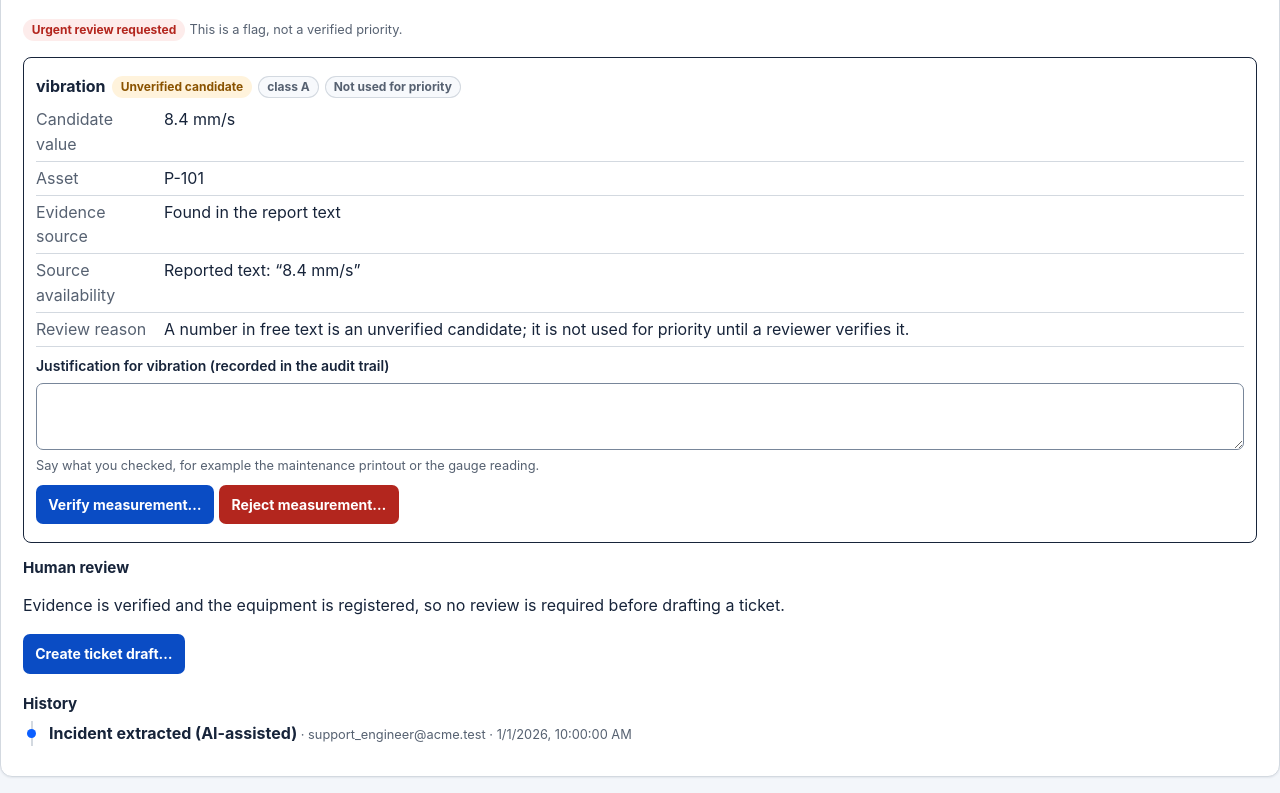
Test: measurement review panel › verifies with the guard of the displayed state, then shows the server's status, priority, decision and refreshed audit history
This screenshot has width=1280, height=793.
(page scrolled)
Type "Checked the maintenance printout." into the text box labelled "Justification for vibration (recorded in the audit trail)".
click(640, 416); type("Checked the maintenance printout.")  # box [36,383,1244,450]
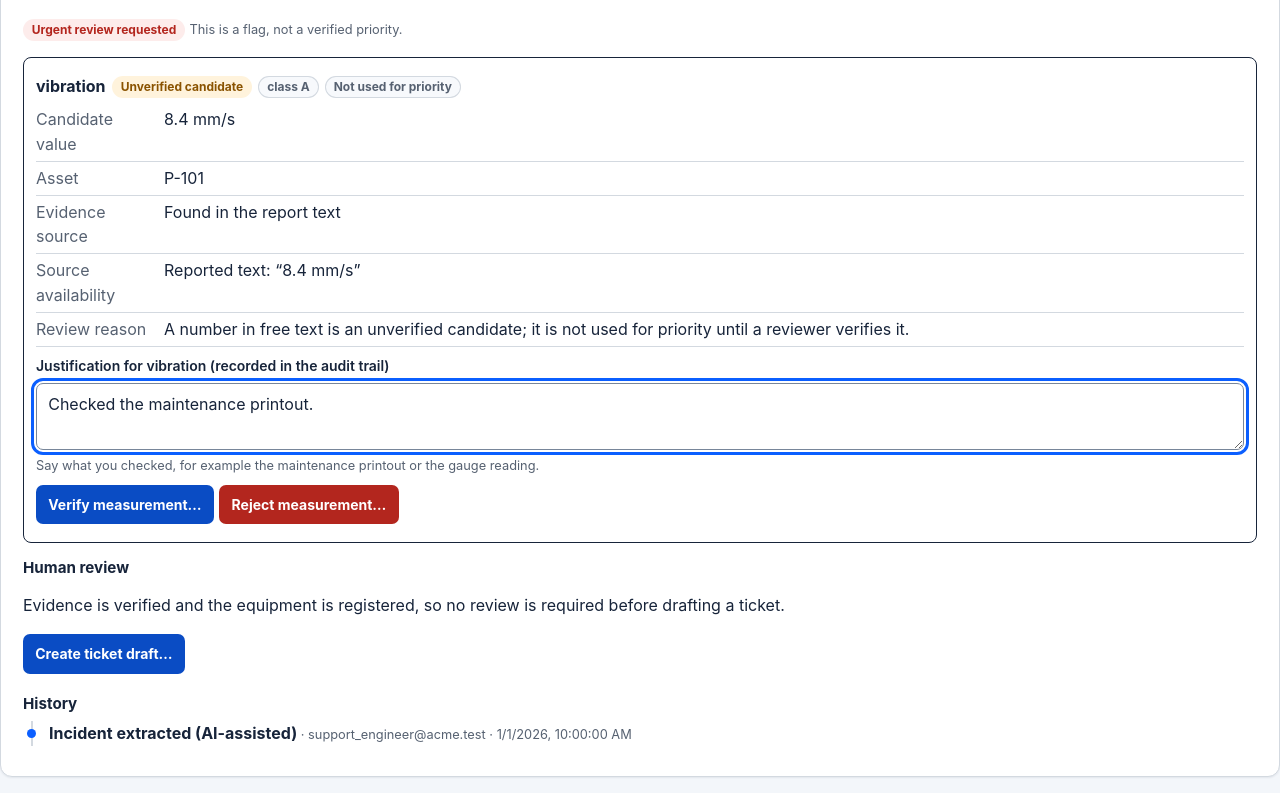
Click the button "Verify measurement…".
click(125, 504)  # box [36,484,214,524]
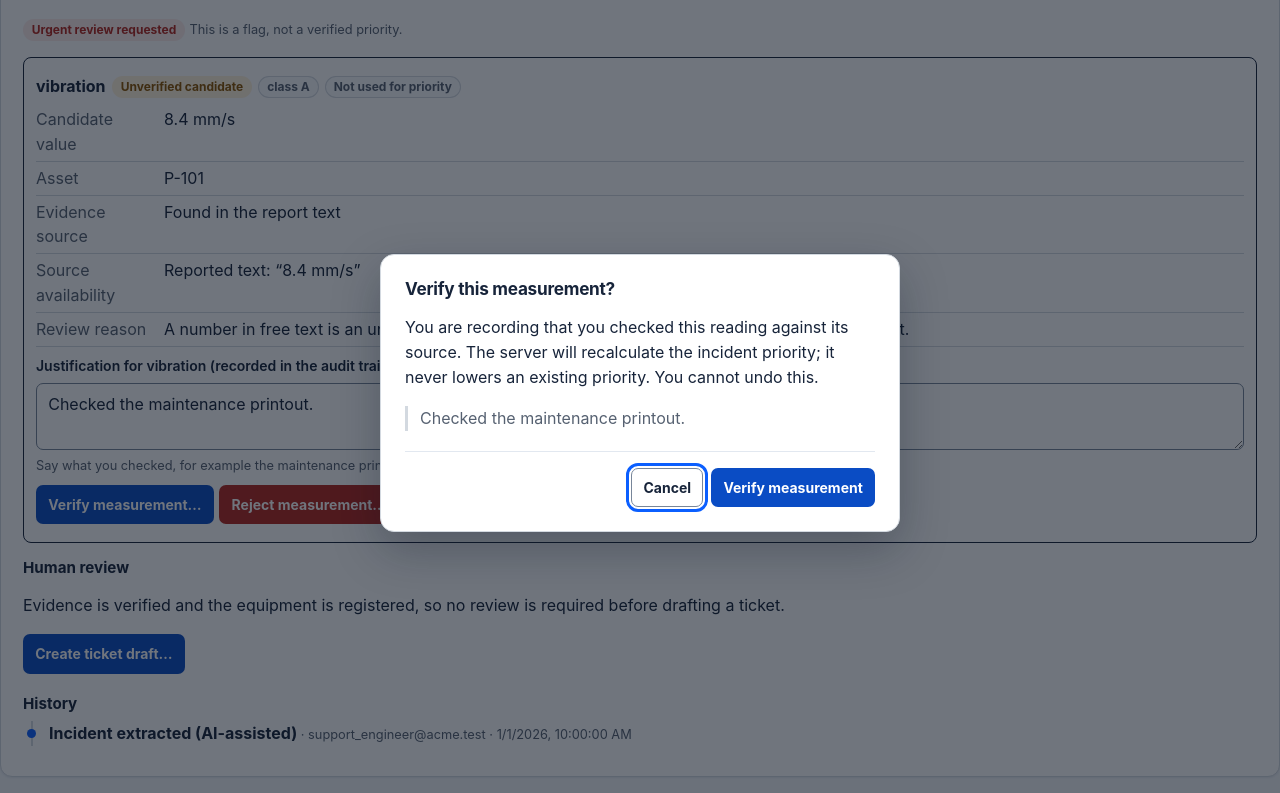
Click the button "Verify measurement".
click(793, 487)  # box [711,468,875,507]
(page scrolled)
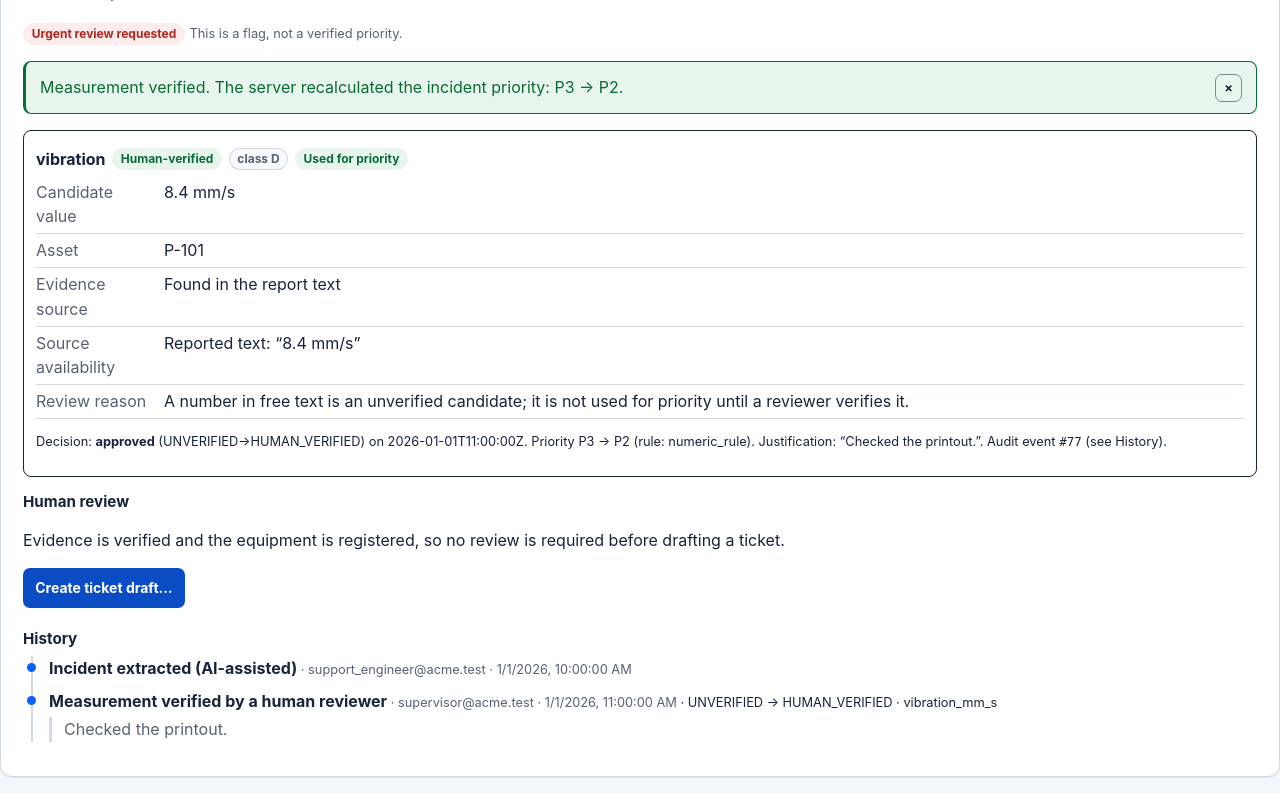
Expected: the text "Human-verified" is shown, [112,148,222,170]
Expected: the text "Measurement verified. The server recalculated the incident priority: P3 → P2" is shown, [40,77,623,97]
Expected: the text "Priority P3 → P2 (rule: numeric_rule)" is shown, [36,432,1244,452]
